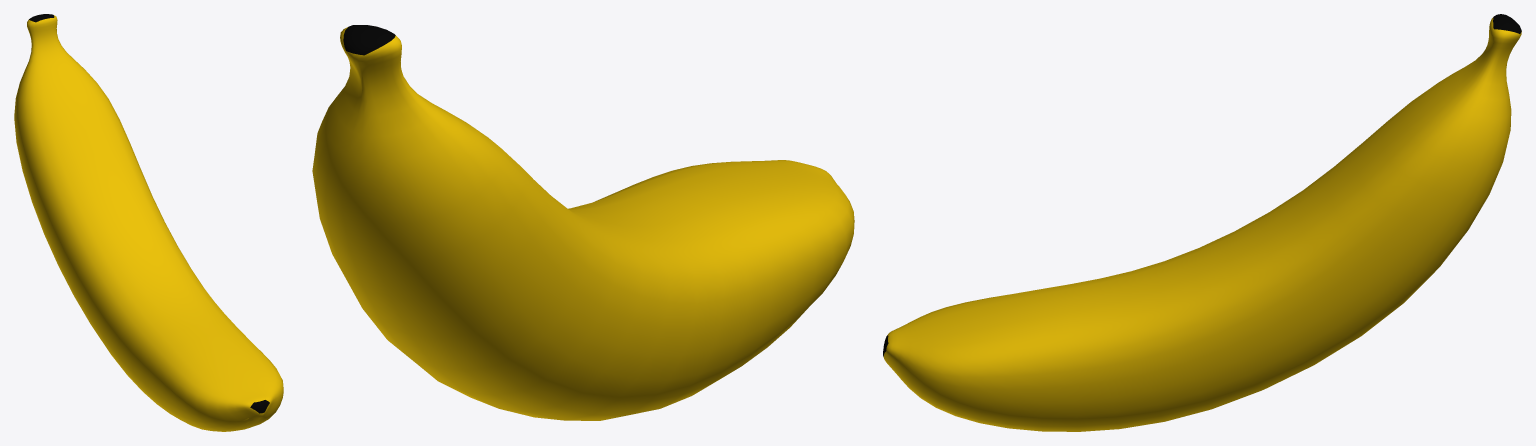
The model's file is banana.gltf.
3 renders of one model, left to right at view 1: azimuth 30°, elevation 25°; view 2: azimuth 150°, elevation 25°; view 3: azimuth 270°, elevation 25°, orthographic. The views are drawn at different scales.
Visible parts, largest first — view 1: Cube; view 2: Cube; view 3: Cube.
Part boxes in pixels (<box>): Cube: <box>14,14,283,431</box>; Cube: <box>312,25,854,420</box>; Cube: <box>883,14,1521,431</box>.
Size of the model in its own units: 2.22 by 6.16 by 8.86.
